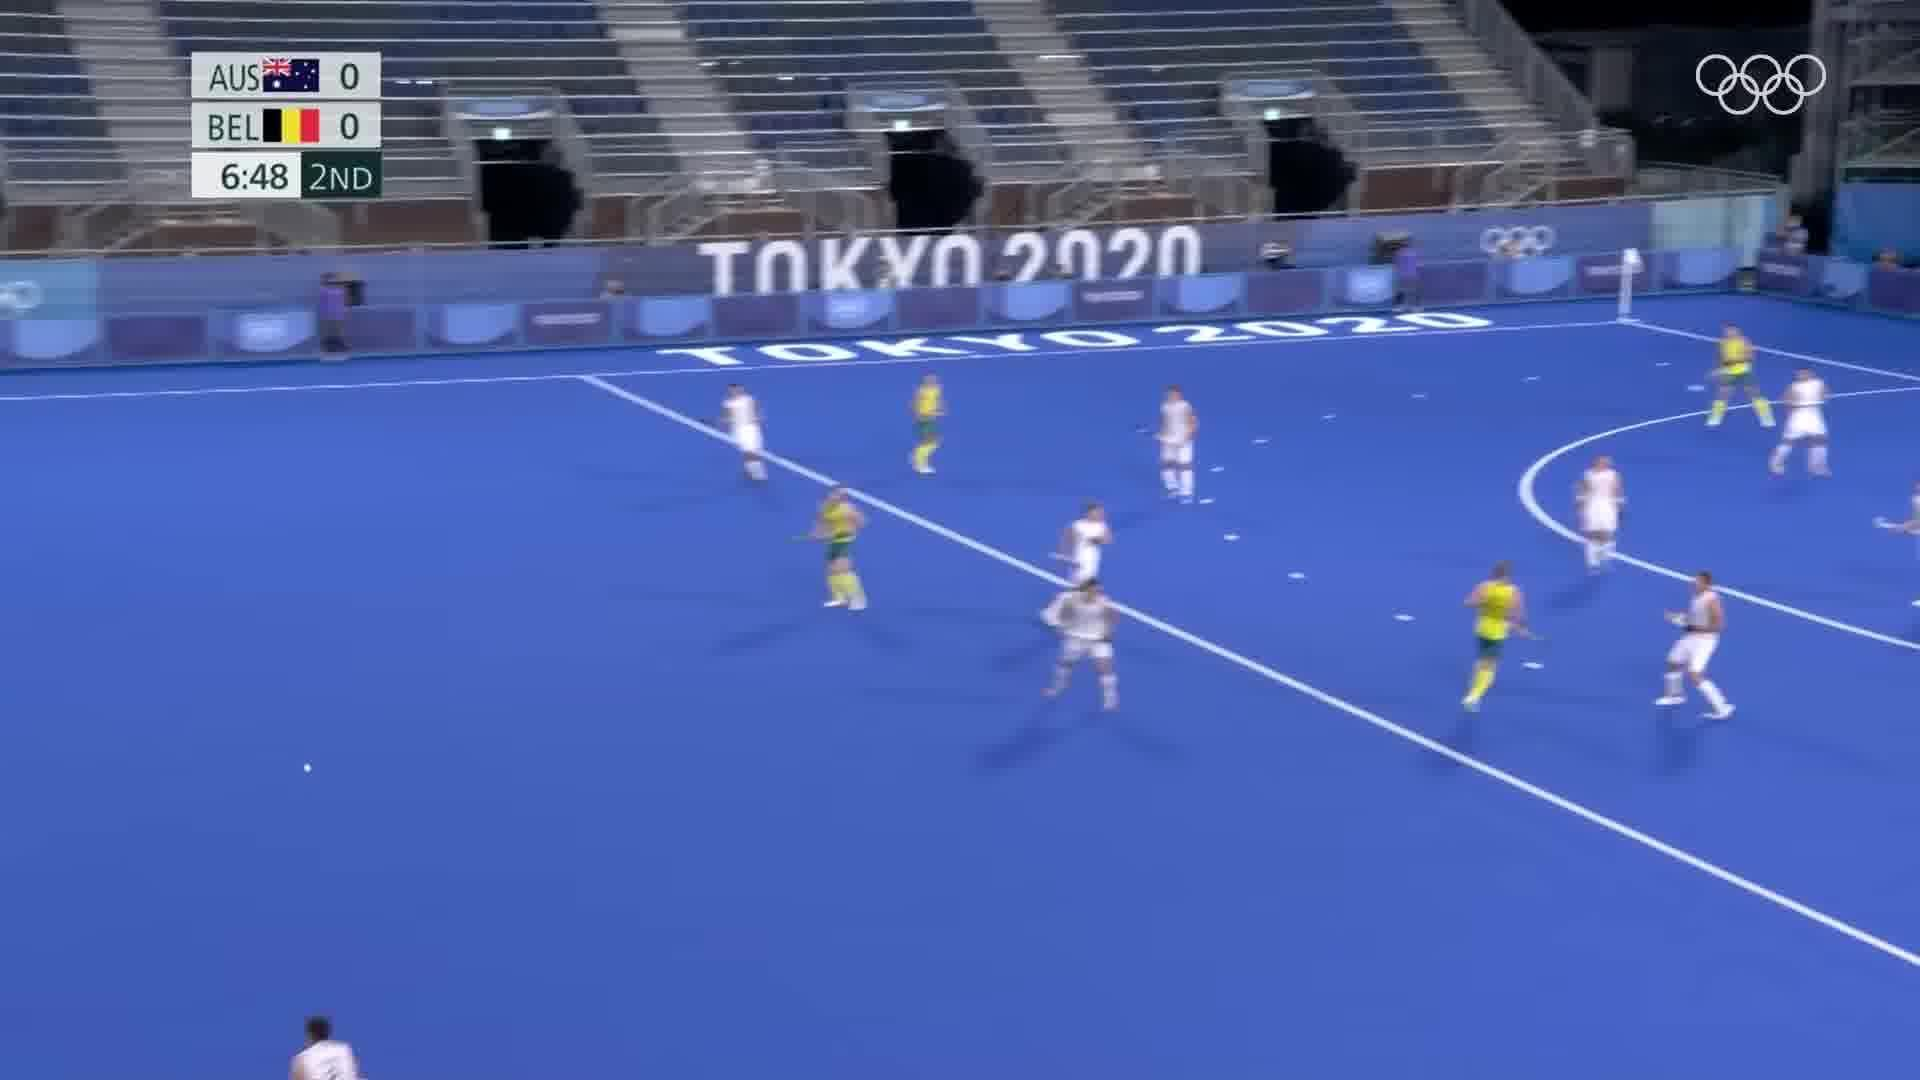ball: (297, 758, 318, 778)
